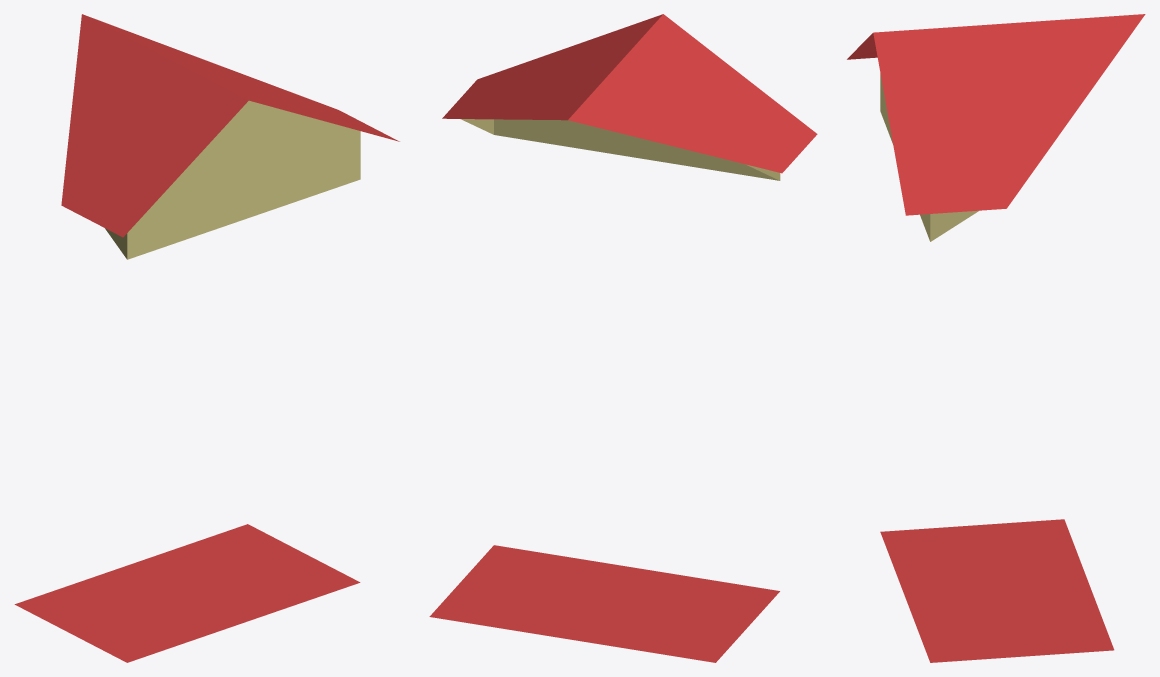
3 views of the same model, side by side, from view 1: azimuth 30°, elevation 25°; view 2: azimuth 150°, elevation 25°; view 3: azimuth 270°, elevation 25° (orthographic). The views are drawn at different scales.
Size of the model in its own units: 6.51 by 5.06 by 10.44.
